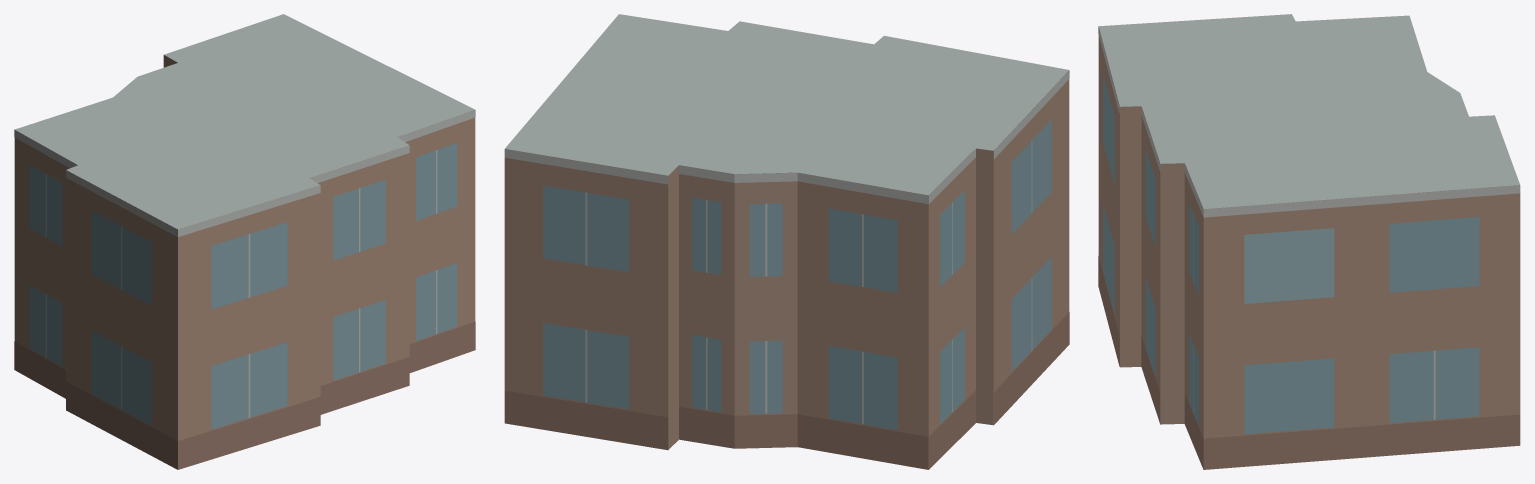
The model's file is survey-upis-32614214.glb.
3 renders of one model, left to right at view 1: azimuth 30°, elevation 25°; view 2: azimuth 150°, elevation 25°; view 3: azimuth 270°, elevation 25°, orthographic. The views are drawn at different scales.
Visible parts, largest first — view 1: survey-upis-32614214.tmp; view 2: survey-upis-32614214.tmp; view 3: survey-upis-32614214.tmp.
Part boxes in pixels (x1,y1,x2,y2): survey-upis-32614214.tmp: (14,14,475,469); survey-upis-32614214.tmp: (504,14,1069,469); survey-upis-32614214.tmp: (1098,14,1520,469).
Bounding box in the file's own units: 12.22 × 7.6 × 11.15.
